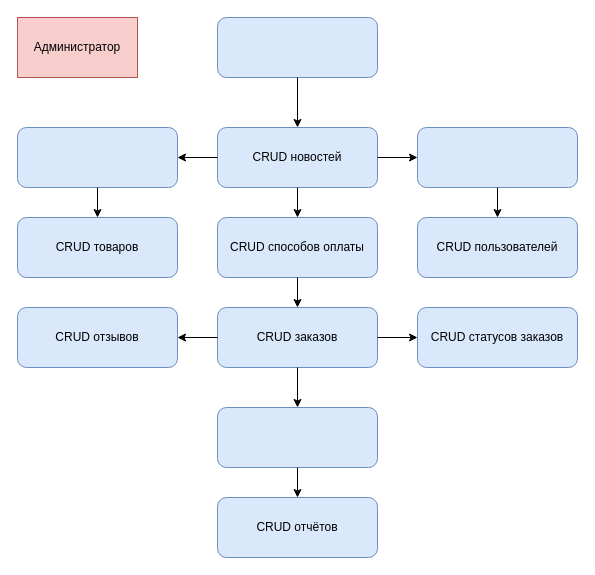
The diagram is 595 pixels wide and 575 high, and some of its shapes have lost their labels. Each missing label, with the centre of its shape:
CRUD категорий: pixel 97 157
CRUD ролей: pixel 497 157
CRUD составов заказов: pixel 297 437
Вход: pixel 297 47
